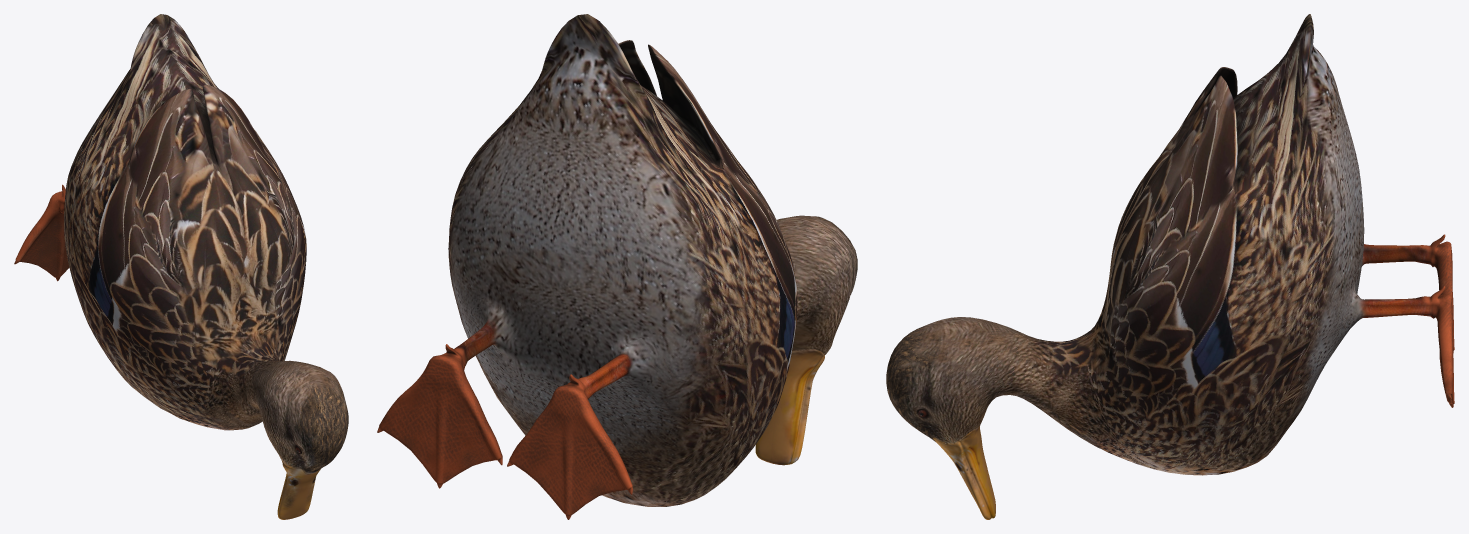
The picture shows the model from 3 angles, left to right: view 1: azimuth 30°, elevation 25°; view 2: azimuth 150°, elevation 25°; view 3: azimuth 270°, elevation 25°; orthographic projection. The views are drawn at different scales.
Parts seen in each view (by area): view 1: 12249_Bird_v1; view 2: 12249_Bird_v1; view 3: 12249_Bird_v1.
Boxes of the visible parts, bbox=[...] form: 12249_Bird_v1: bbox=[14, 14, 348, 519]; 12249_Bird_v1: bbox=[377, 14, 857, 519]; 12249_Bird_v1: bbox=[886, 14, 1454, 519].
Size of the model in its own units: 28.07 by 53.27 by 54.76.
1 material, 1 textured.
